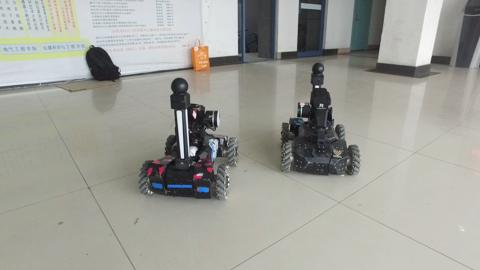chariot: (135, 74, 243, 205), (267, 61, 366, 182)
